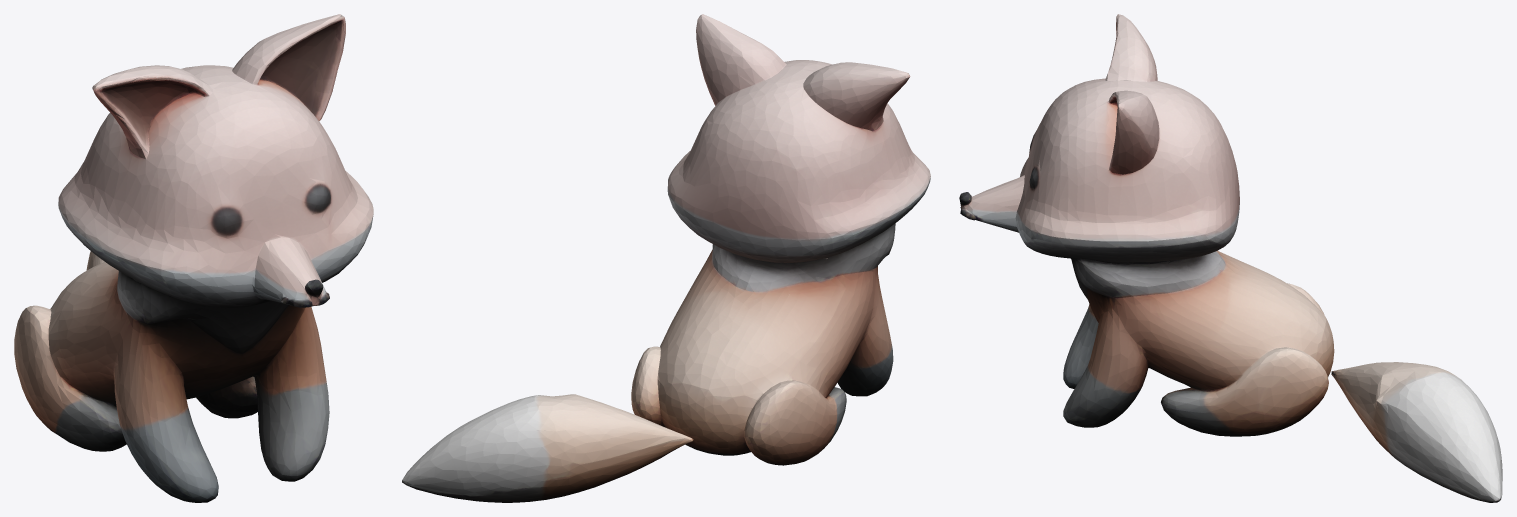
Rendered from original_slat.glb.
3 renders of one model, left to right at view 1: azimuth 30°, elevation 25°; view 2: azimuth 150°, elevation 25°; view 3: azimuth 270°, elevation 25°, orthographic. The views are drawn at different scales.
Visible parts, largest first — view 1: world; view 2: world; view 3: world.
Part boxes in pixels (x1=…): world: x1=14, y1=14, x2=373, y2=502; world: x1=402, y1=14, x2=930, y2=502; world: x1=959, y1=14, x2=1502, y2=502.
Size of the model in its own units: 0.4972 by 0.5519 by 0.7507.
Materials: 1 (1 with a texture image).
